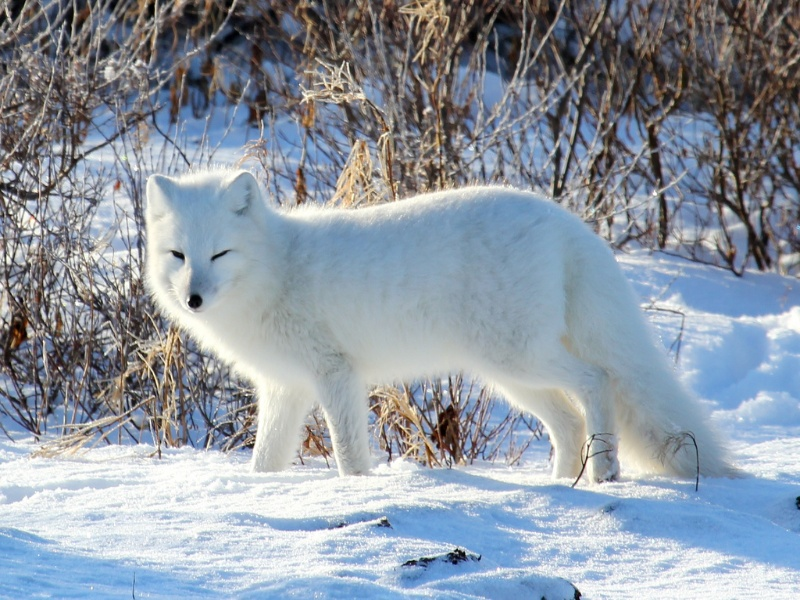fox: (135, 154, 753, 494)
